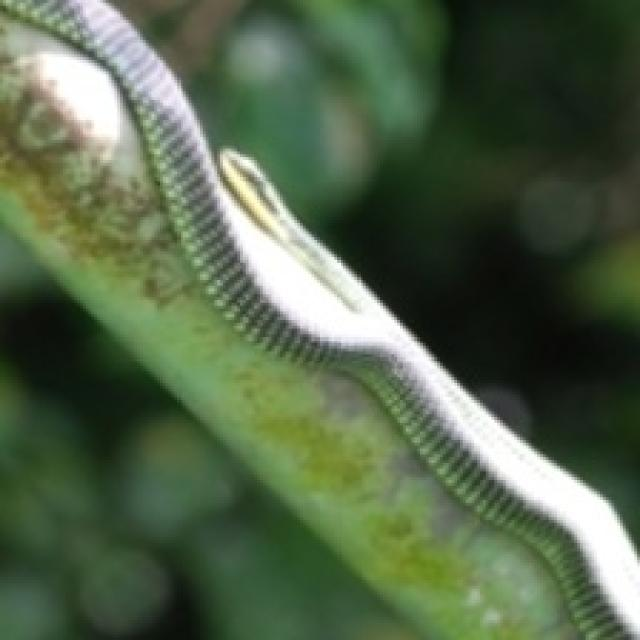paradise tree snake: (120, 0, 637, 540), (0, 249, 417, 637)
